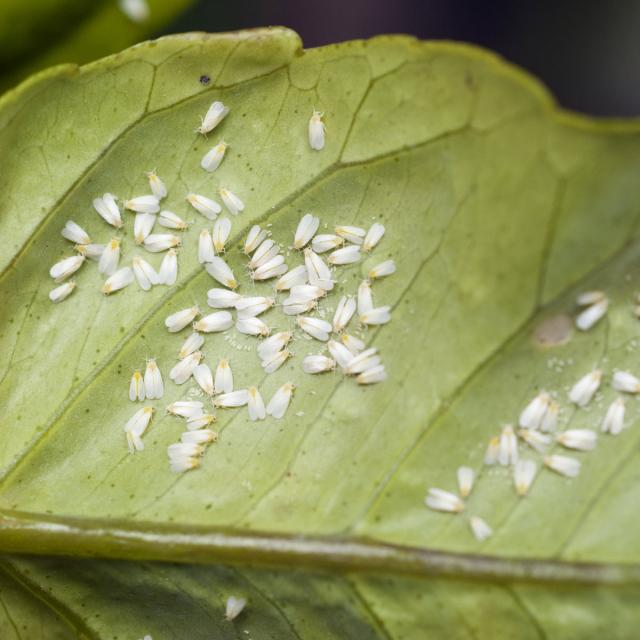whiteflies: (229, 219, 290, 286), (286, 201, 345, 258), (241, 375, 305, 426), (343, 346, 398, 392), (128, 247, 181, 294), (127, 345, 168, 404), (295, 103, 336, 158), (194, 133, 236, 174), (86, 190, 125, 232), (196, 99, 235, 136), (351, 298, 396, 330), (160, 300, 203, 332)
